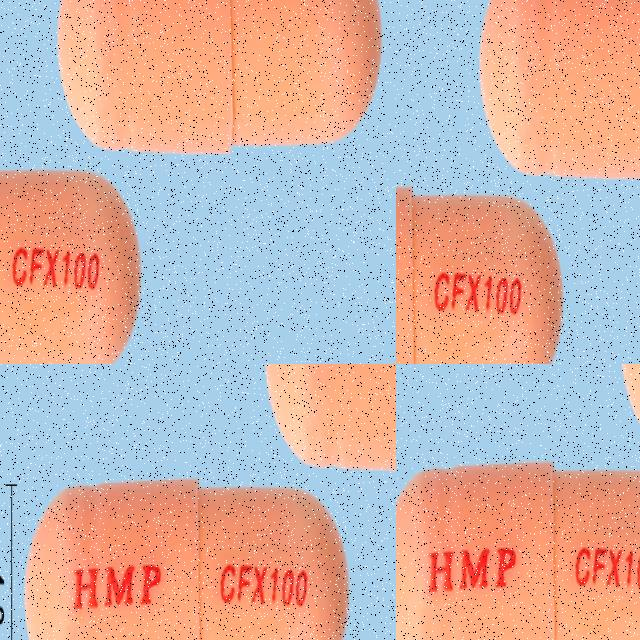Amoclan Duo Tab- Myungmoon: (91, 0, 379, 215), (0, 108, 99, 364)
Cefix Cap: (396, 457, 640, 640)
Celltrion Levofloxacin: (20, 364, 273, 640), (307, 364, 396, 640)
Curasil: (396, 219, 561, 364)
